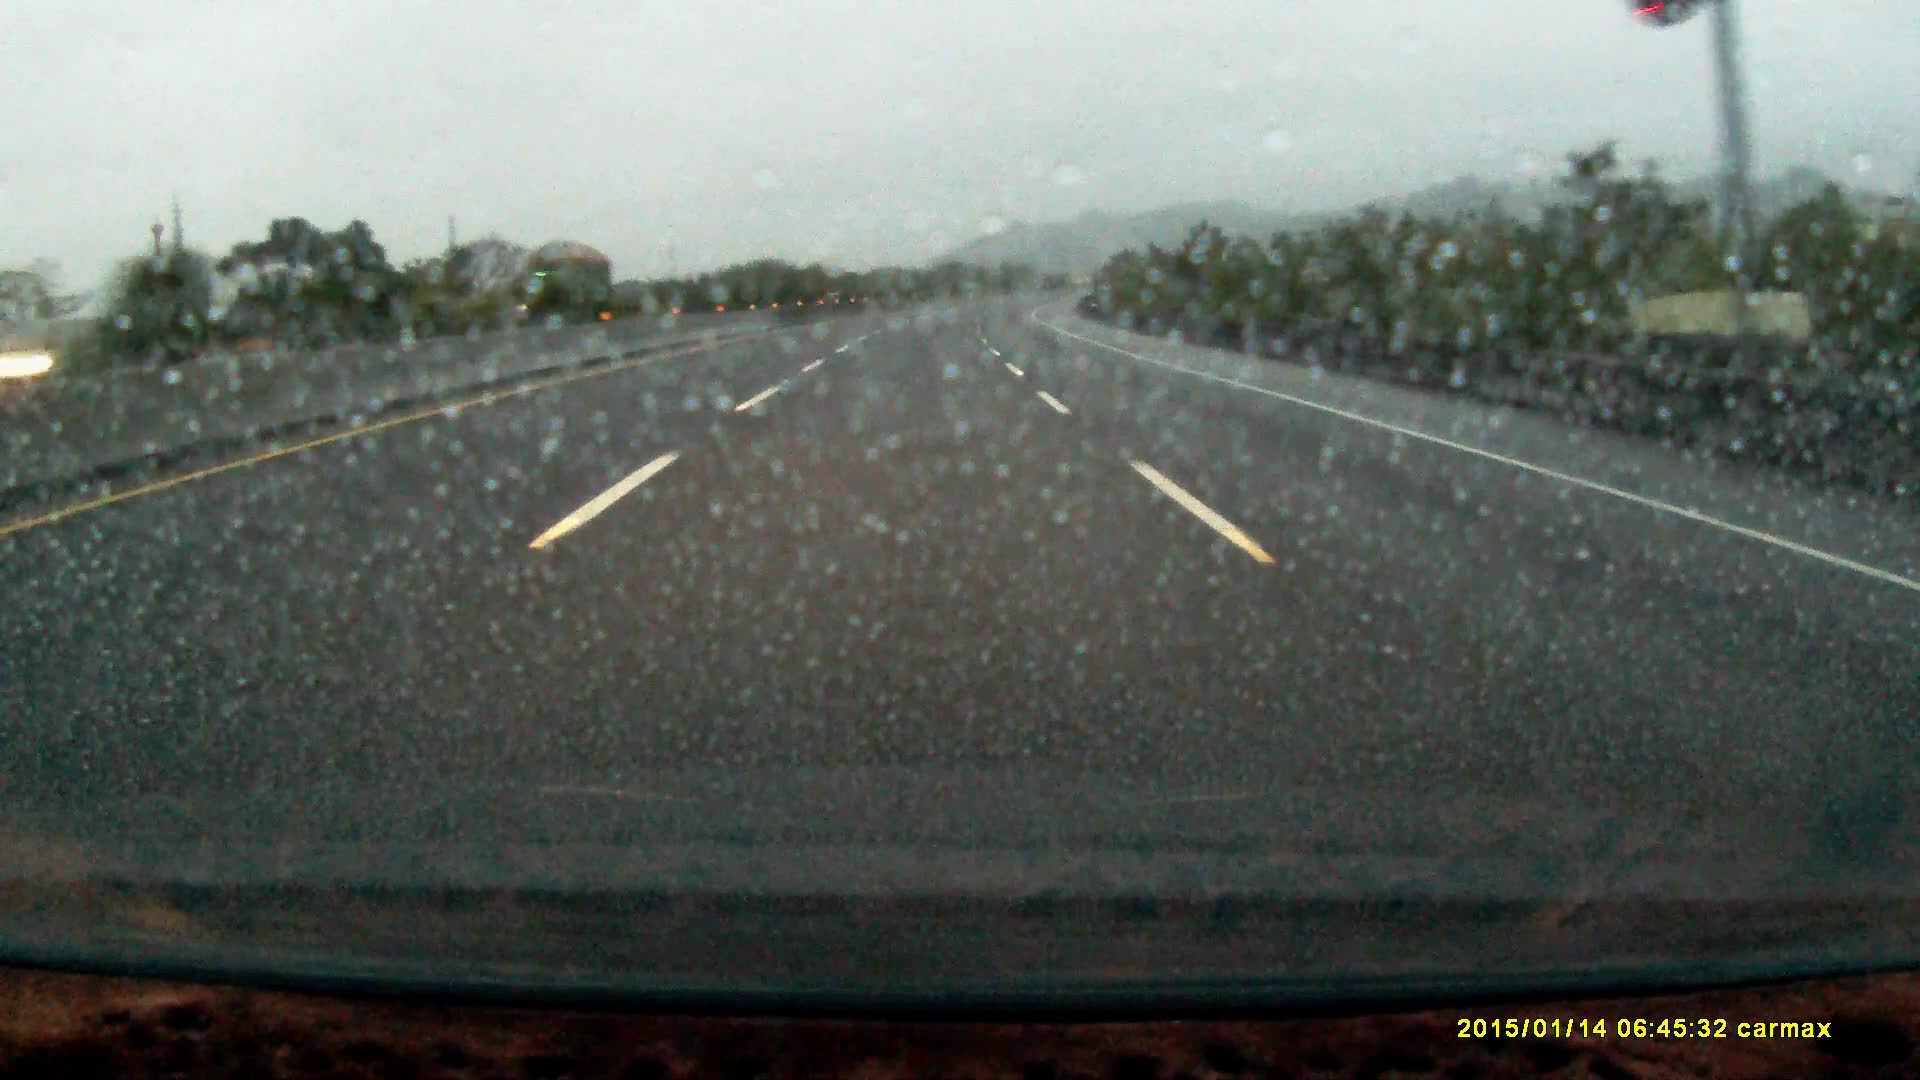vehicle: (512, 237, 615, 322)
